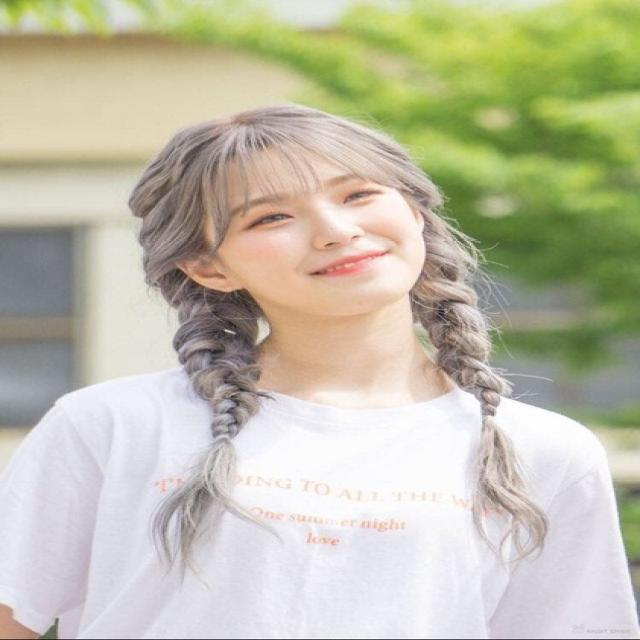Nonhelmet: (122, 92, 472, 340)
